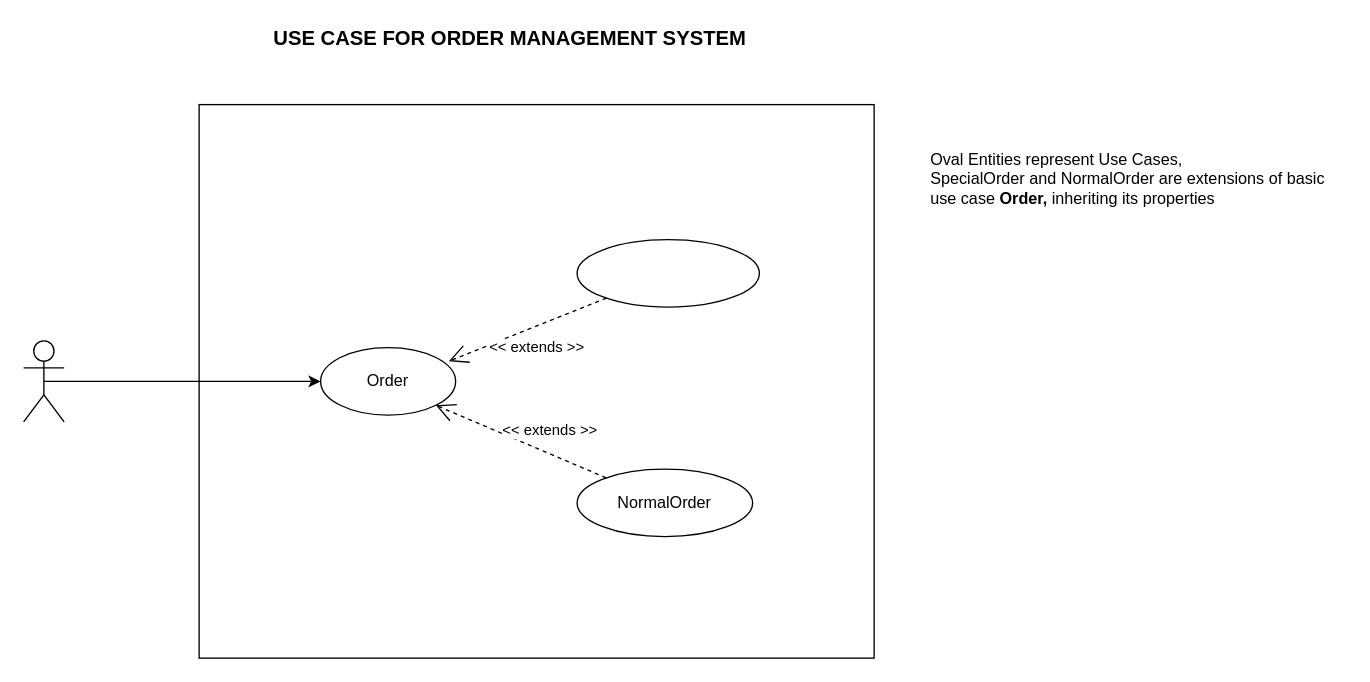
This 1370x682 diagram has some shape labels left out. Each missing label, with the centre of its shape:
Actor: the point at 43,381
SpecialOrder: the point at 667,272
